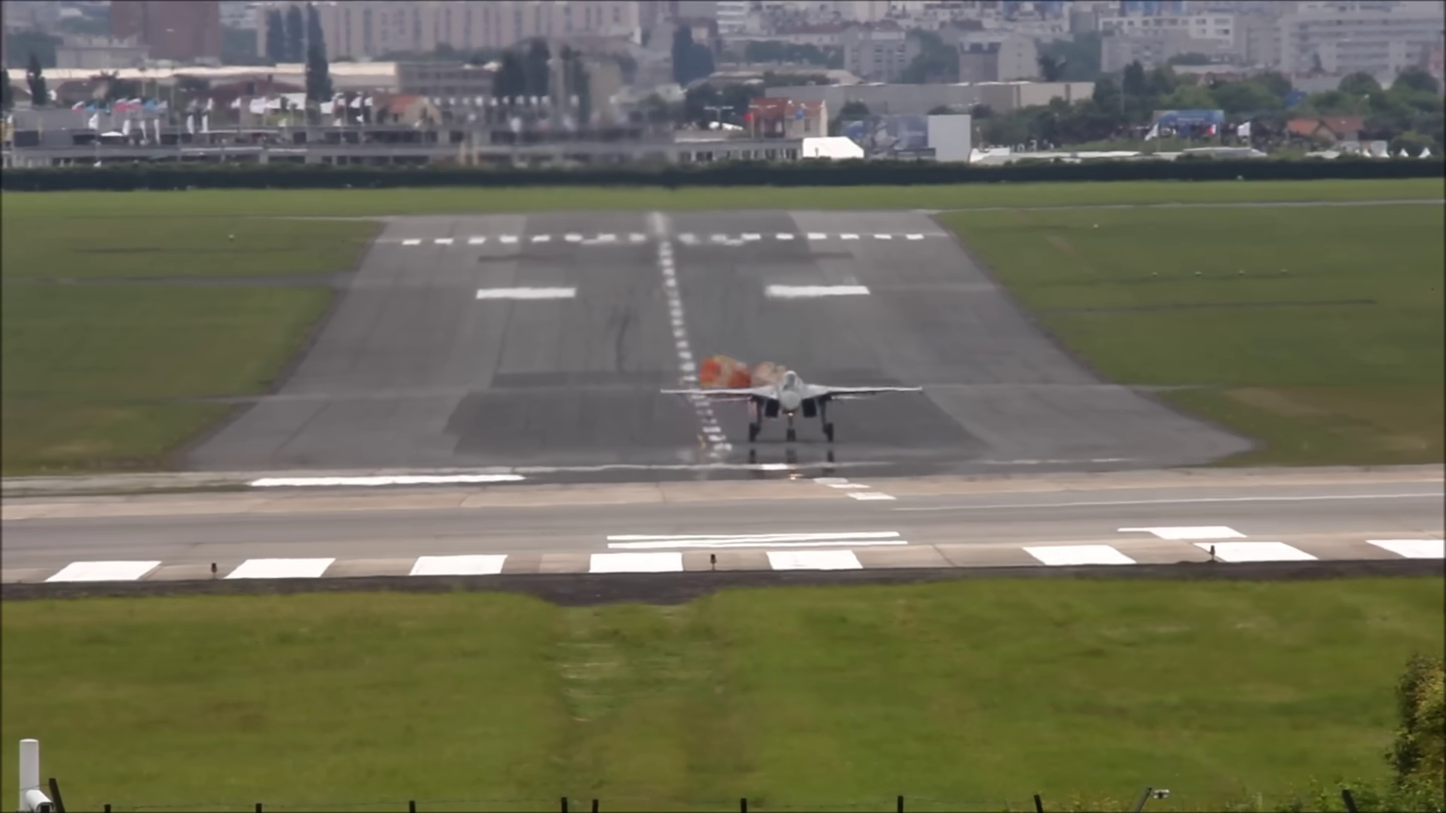Su35: (653, 354, 928, 446)
